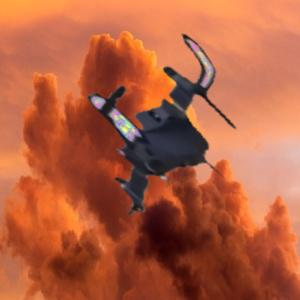drone: (65, 32, 251, 218)
